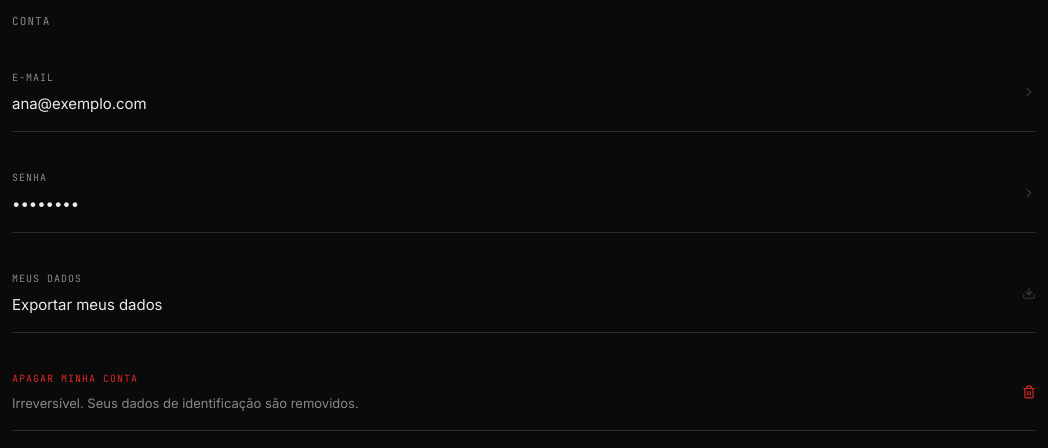
Test case: AccountSection › erro na exportação mostra mensagem, sem quebrar a tela
This screenshot has width=1048, height=448.
Click the button "Meus dados Exportar meus dados": (47, 278) [12,254,1036,333]
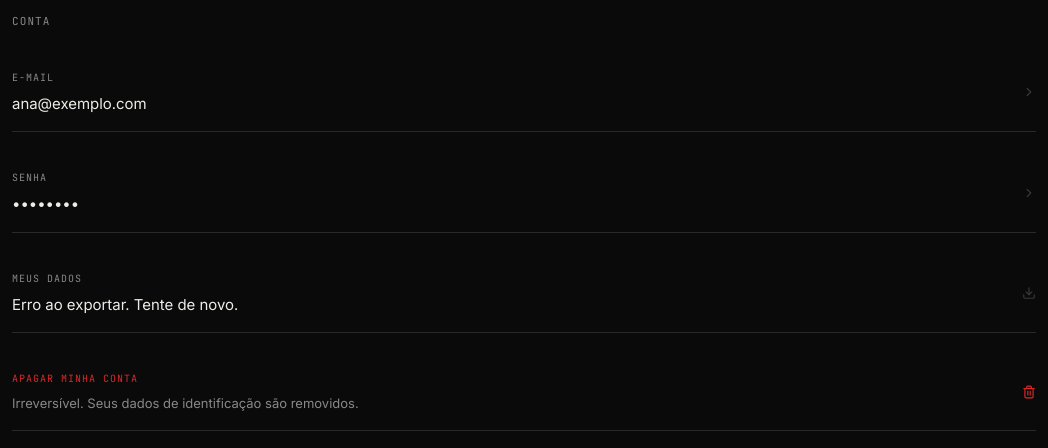
Expected: the text "Erro ao exportar. Tente de novo." is shown, [12,294,238,314]
